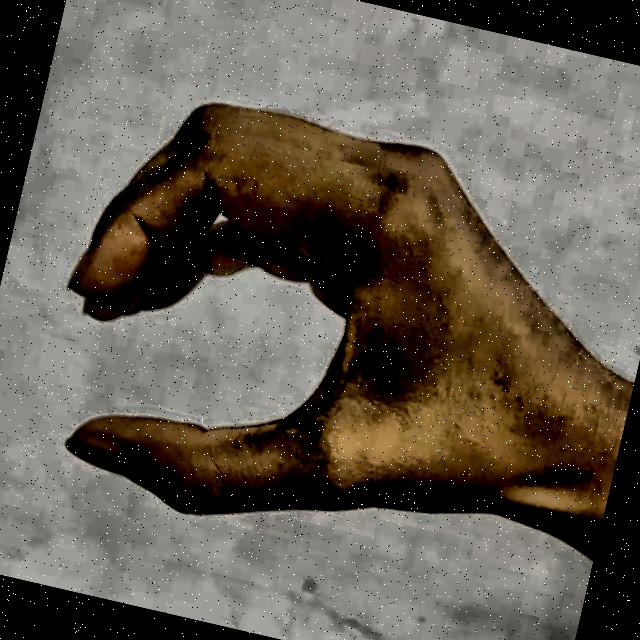Ka: (0, 36, 640, 618)
